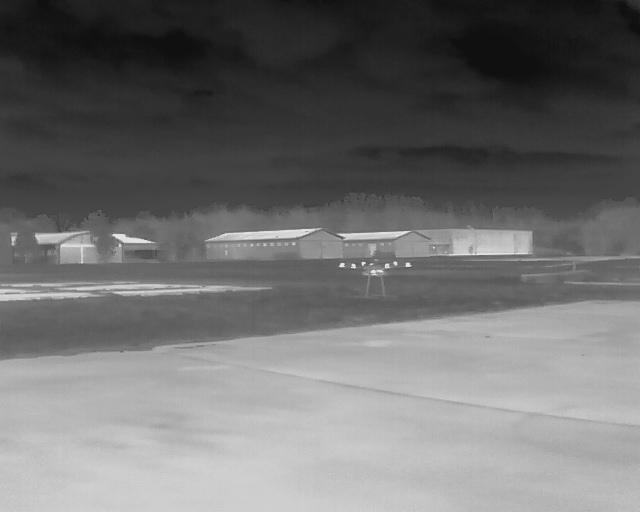drone: (333, 243, 417, 300)
